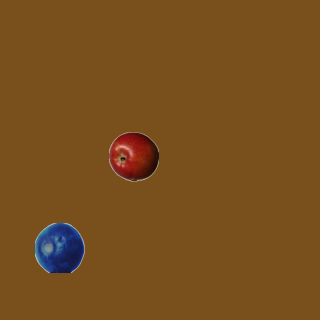Apple Braeburn: (108, 131, 158, 181)
Huckleberry: (34, 222, 84, 272)
